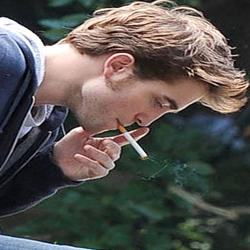smoking: (114, 115, 150, 162)
